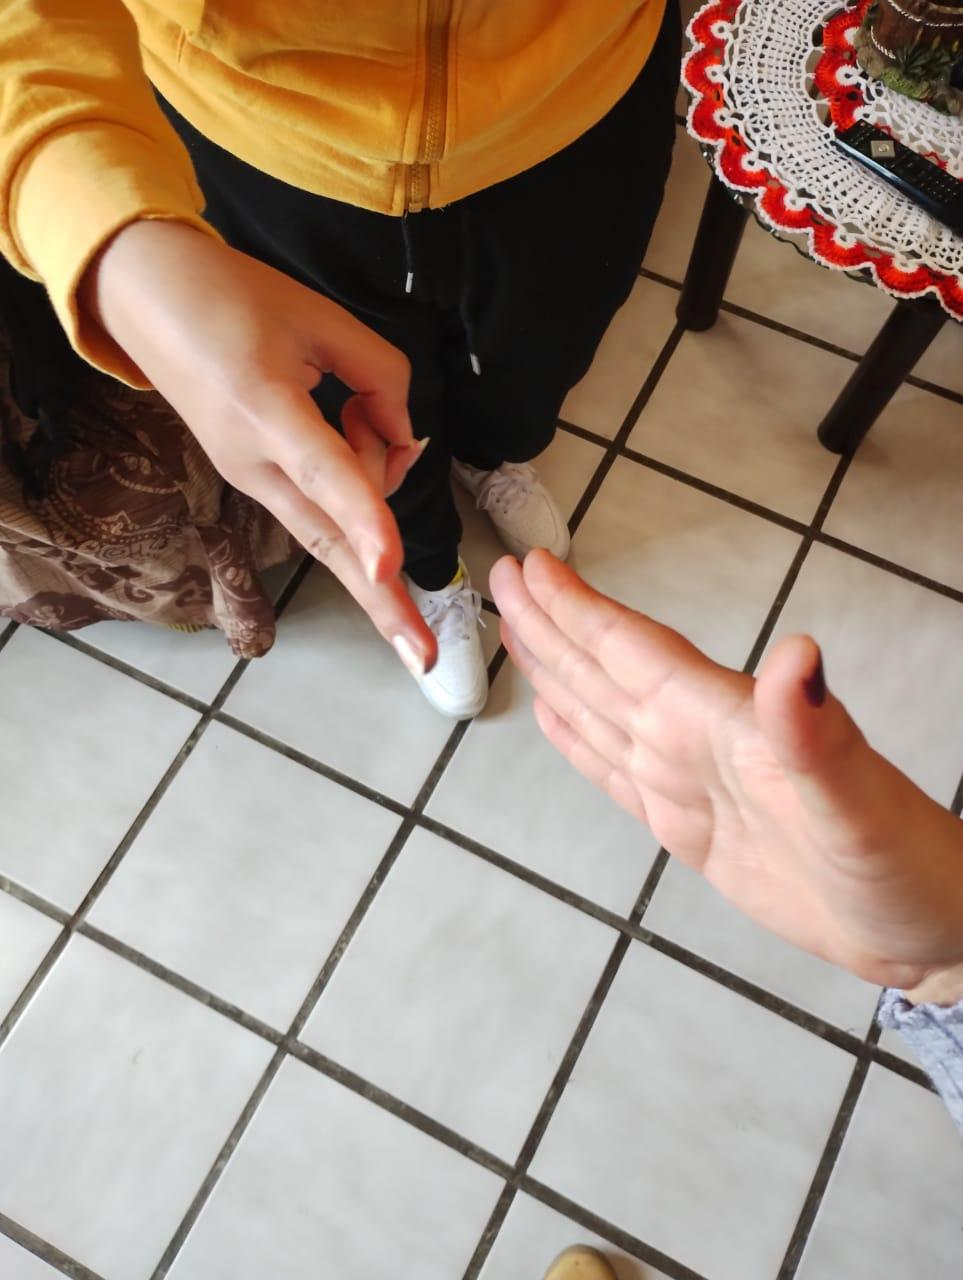Paper: (473, 517, 963, 1080)
Scissor: (0, 136, 469, 690)
